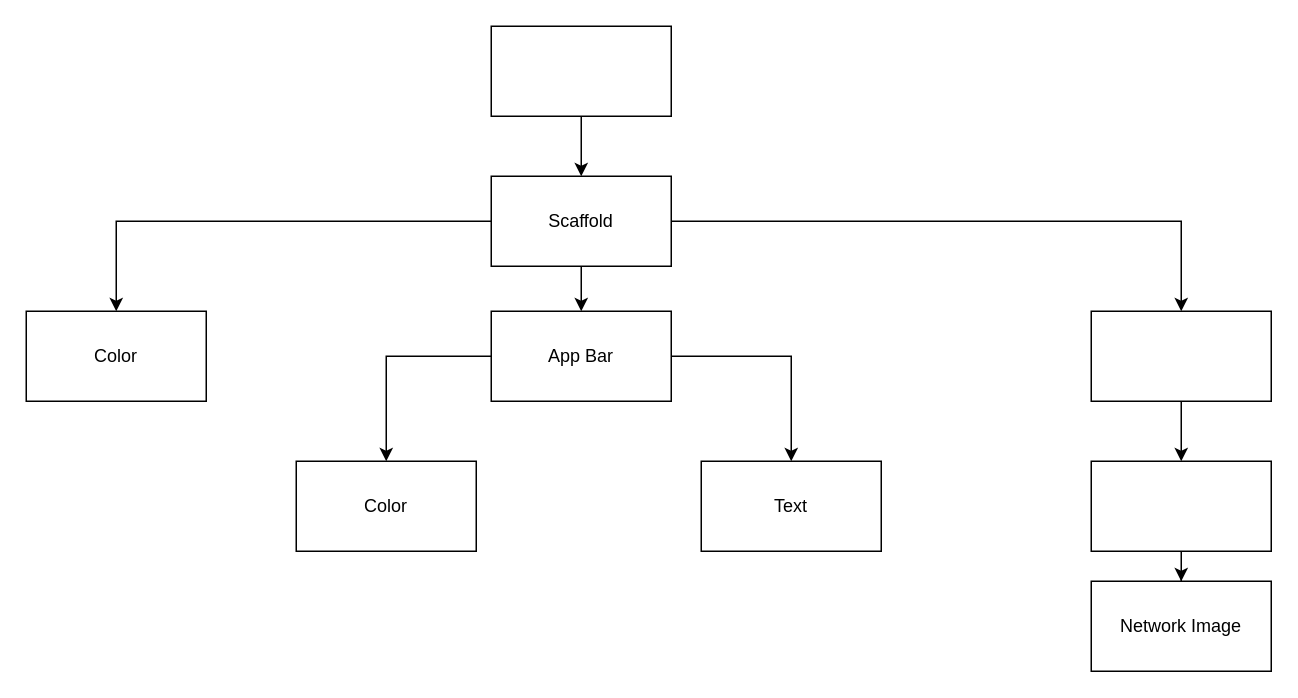
This 1298x698 diagram has some shape labels left out. Here are the shapes that lost their labels. From the top down, the centre of each, then its label:
At point 580,70: "Material App()".
At point 1180,355: "Center".
At point 1180,505: "Image".
